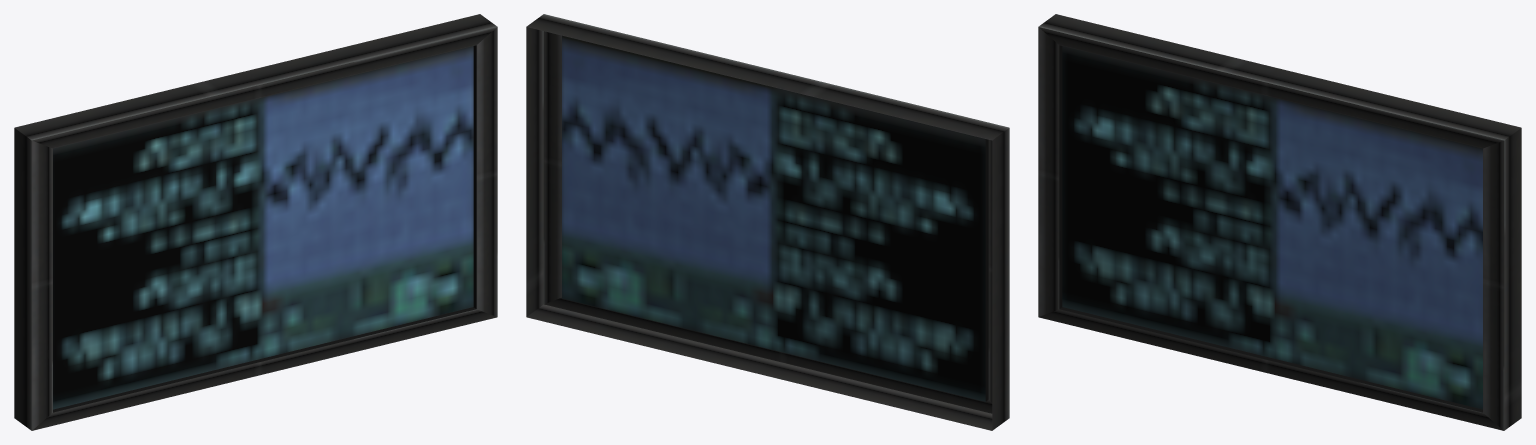
File: telacomputadorG-2.fbx
The picture shows the model from 3 angles, left to right: view 1: azimuth 30°, elevation 25°; view 2: azimuth 150°, elevation 25°; view 3: azimuth 330°, elevation 25°; orthographic projection.
Parts seen in each view (by area): view 1: Cylinder.001; view 2: Cylinder.001; view 3: Cylinder.001.
Part boxes in pixels (box(x1,y1,x2,y2)): Cylinder.001: box(14, 14, 497, 430); Cylinder.001: box(526, 14, 1009, 430); Cylinder.001: box(1038, 14, 1521, 430).
Size of the model in its own units: 2.69 by 1.6 by 0.1759.
